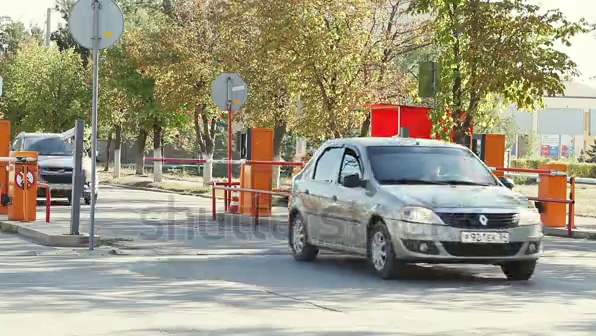licenseplate: (463, 229, 517, 247)
